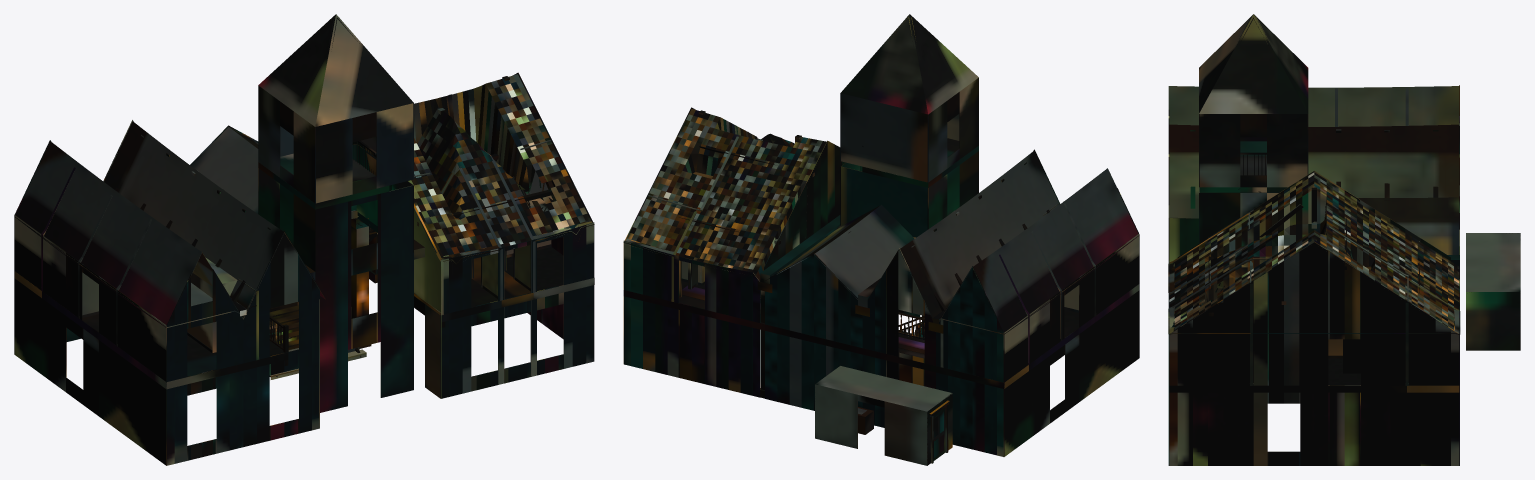
The model's file is hall_structure.glb.
The picture shows the model from 3 angles, left to right: view 1: azimuth 30°, elevation 25°; view 2: azimuth 150°, elevation 25°; view 3: azimuth 270°, elevation 25°; orthographic projection. The views are drawn at different scales.
Visible parts, largest first — view 1: CHUNK_hall_structure; view 2: CHUNK_hall_structure; view 3: CHUNK_hall_structure.
Part boxes in pixels (<box>): CHUNK_hall_structure: <box>14,14,594,465</box>; CHUNK_hall_structure: <box>623,14,1139,465</box>; CHUNK_hall_structure: <box>1168,14,1520,465</box>.
Size of the model in its own units: 23.4 by 19.19 by 17.42.
Materials: 1 (1 with a texture image).
